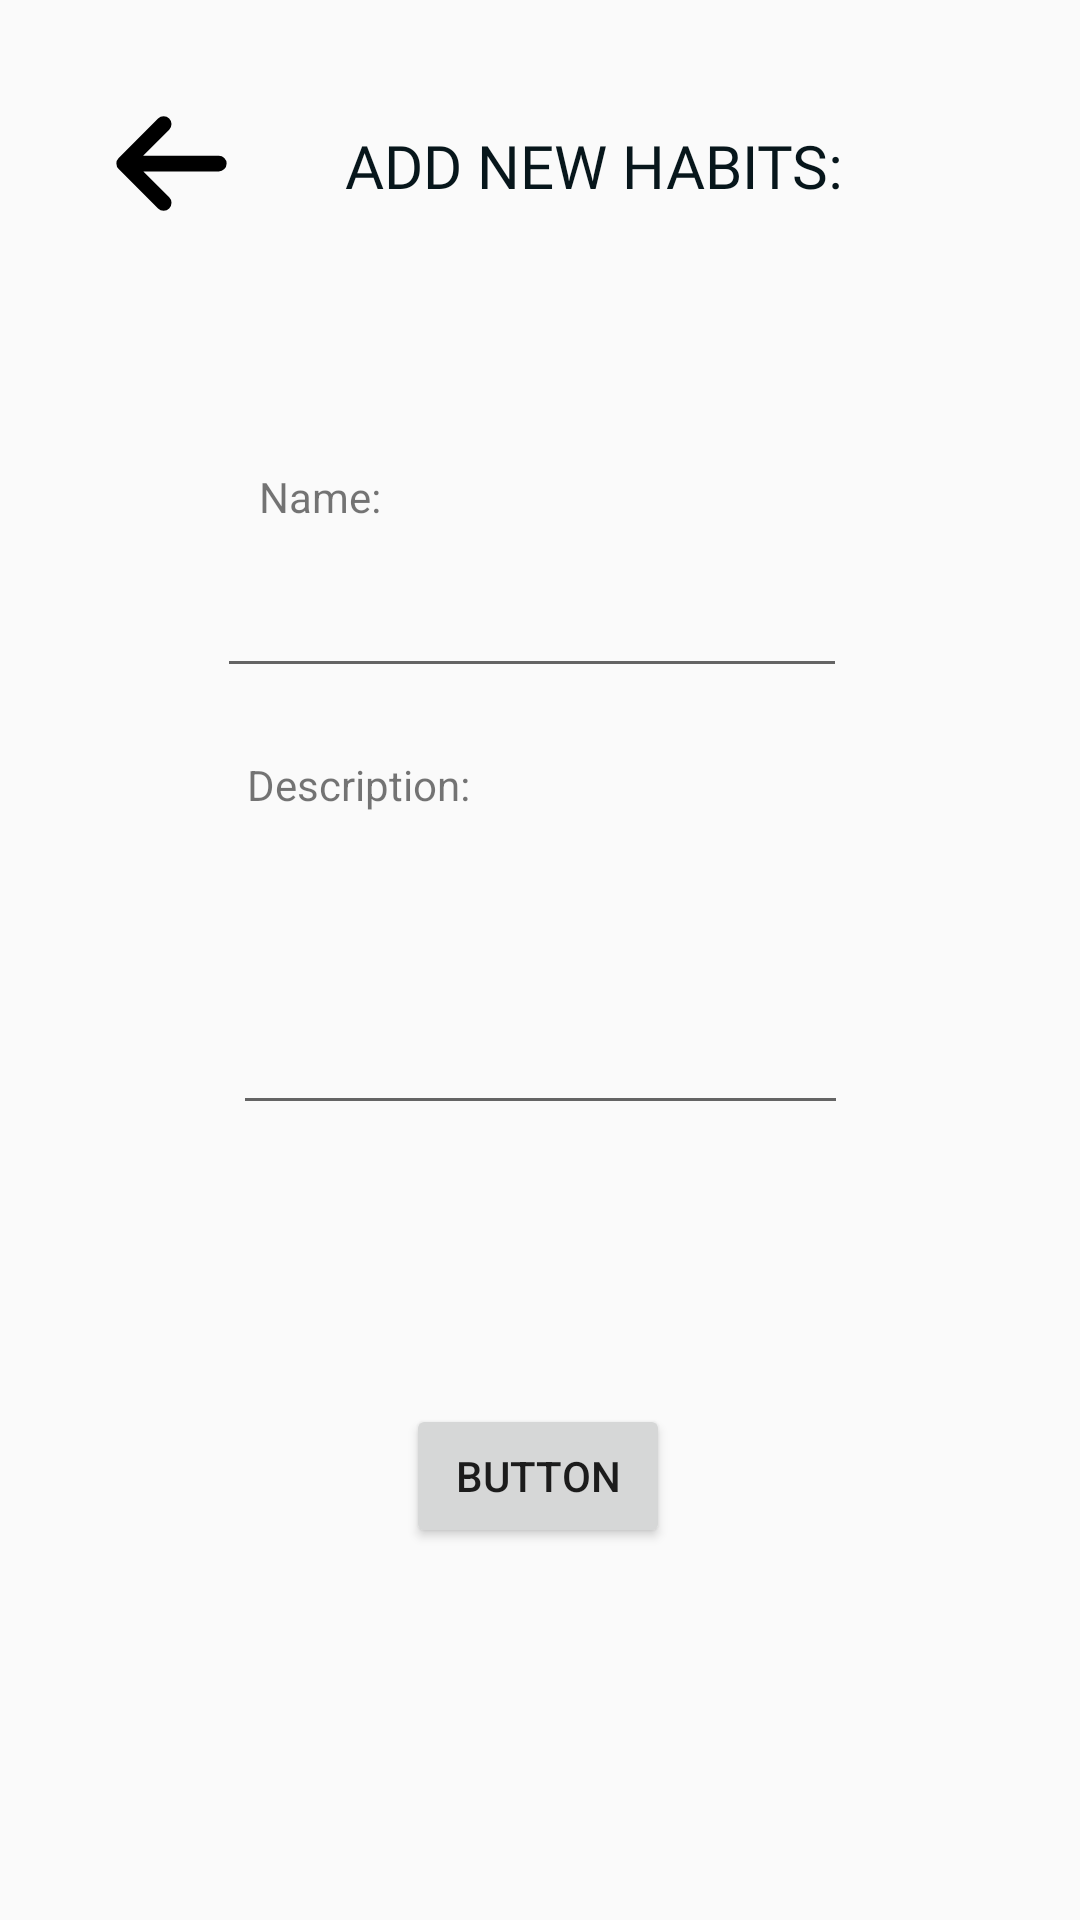

Named icons in this screenshot (1080x1920) and their centers, (x,y):
back: (171,163)
